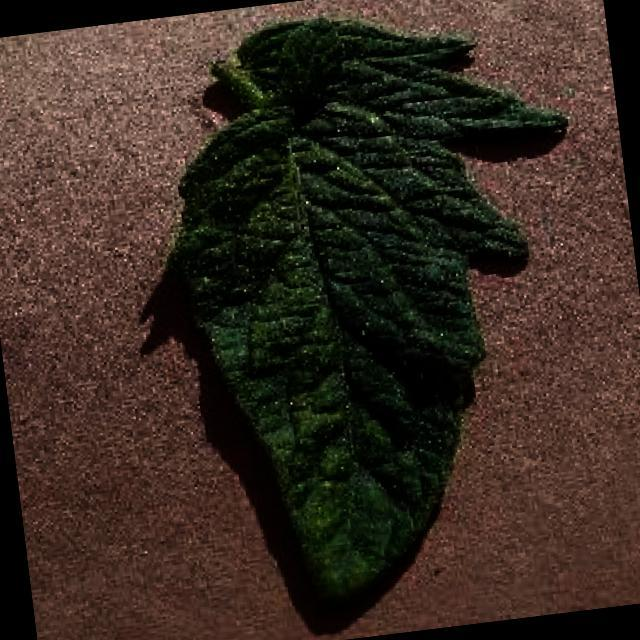Tomato spider mites leaf: (149, 0, 620, 614)
